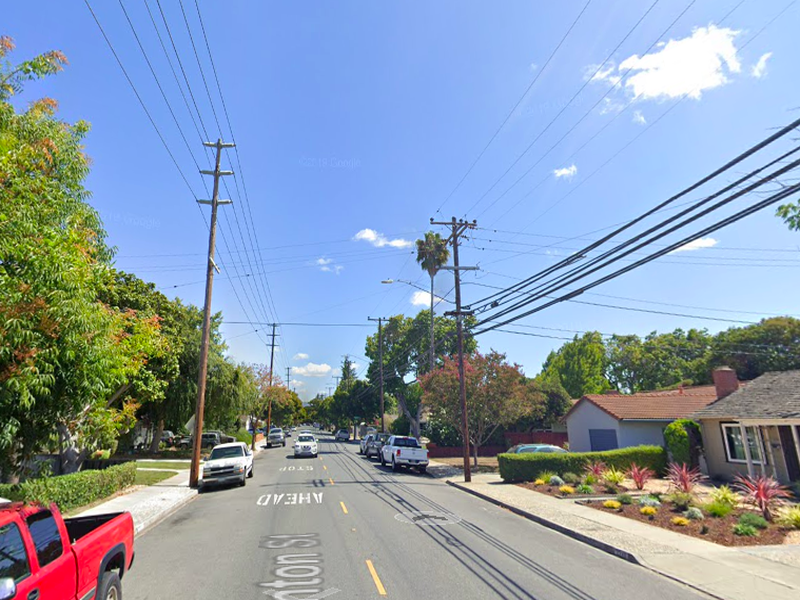utility_pole: (189, 128, 239, 225), (425, 205, 481, 253)
